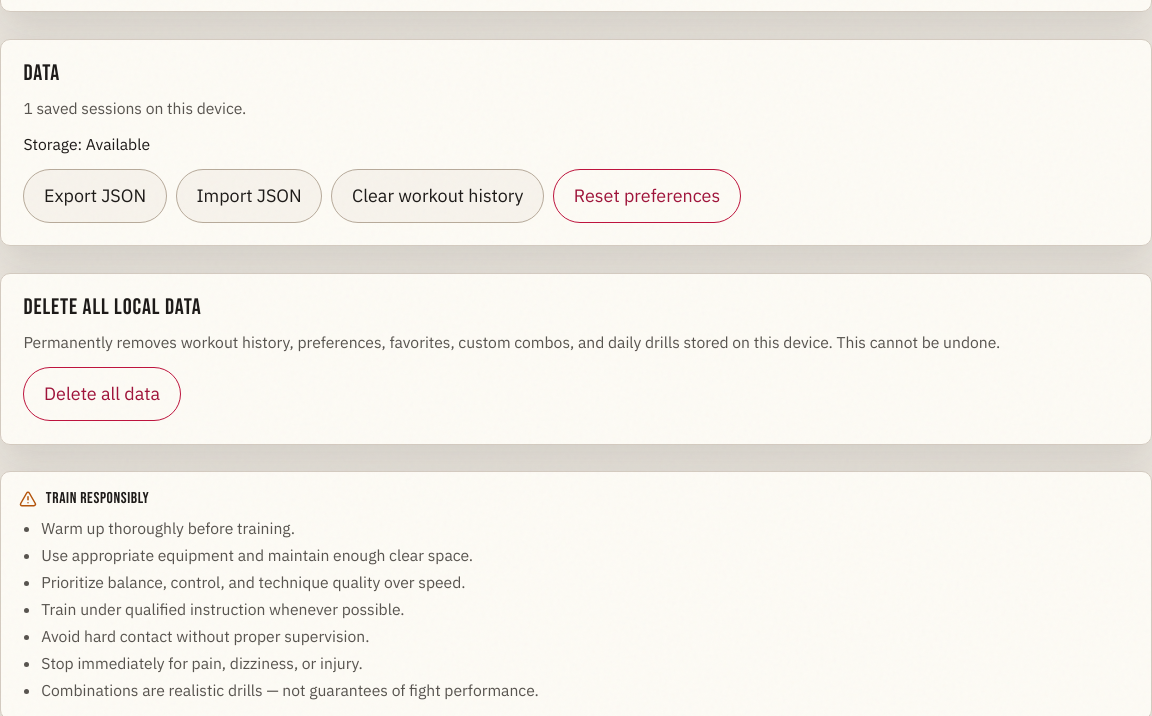
it: delete all data Settings UI › shows failure text and not the success state when deletion fails
(page scrolled)
Step 1. Click the button "Delete all data" → (102, 394), box [23,367,181,421]
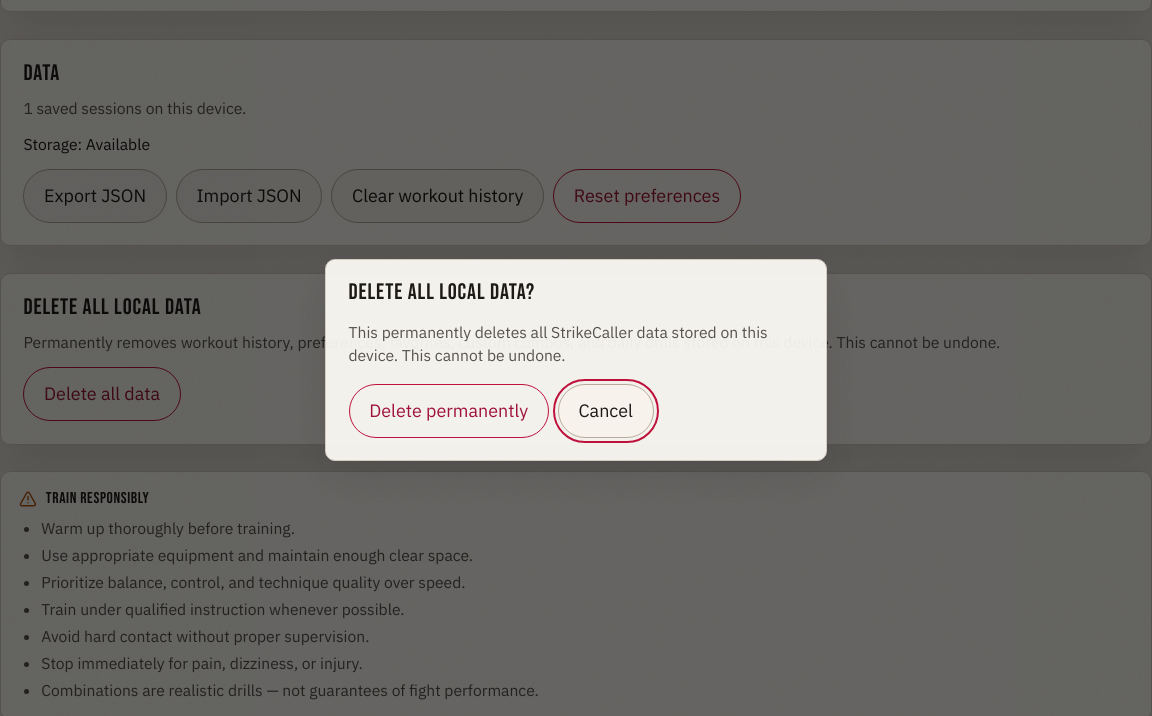
Step 2. Click the button "Delete permanently" → (449, 411), box [348,384,549,438]
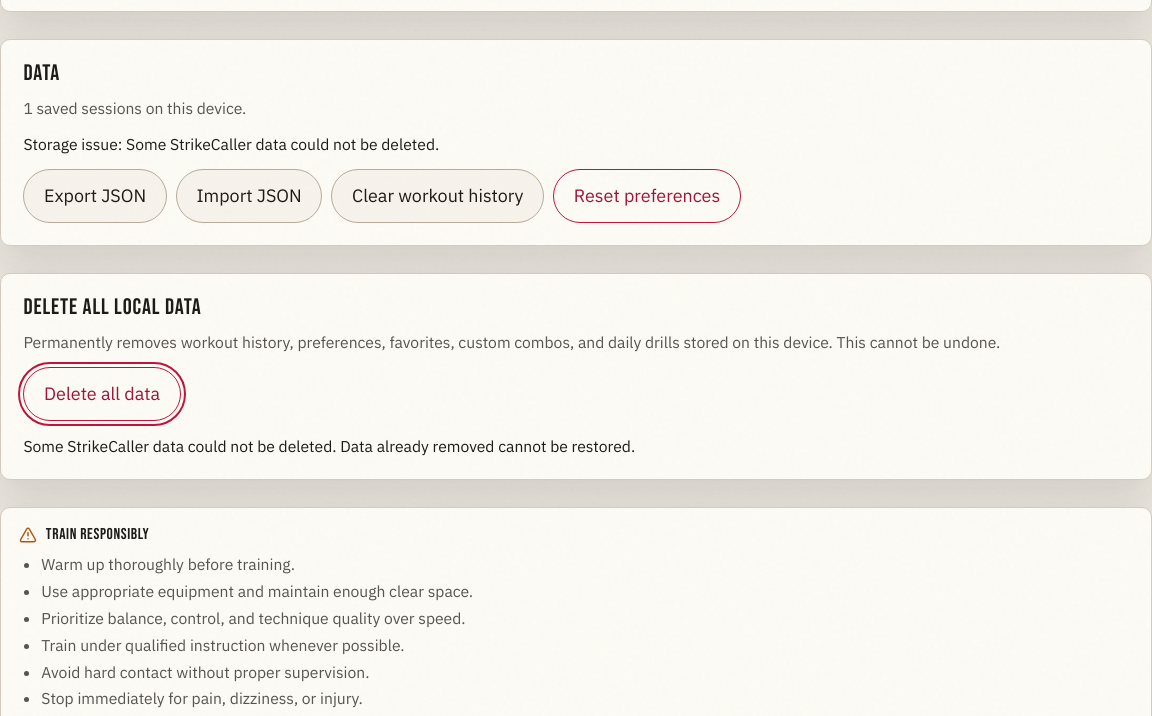
Check: the 2nd message shows "Some StrikeCaller data could not be deleted. Data already removed cannot be restored.", box [23,436,635,456]
